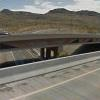Bridge: (3, 16, 94, 60)
